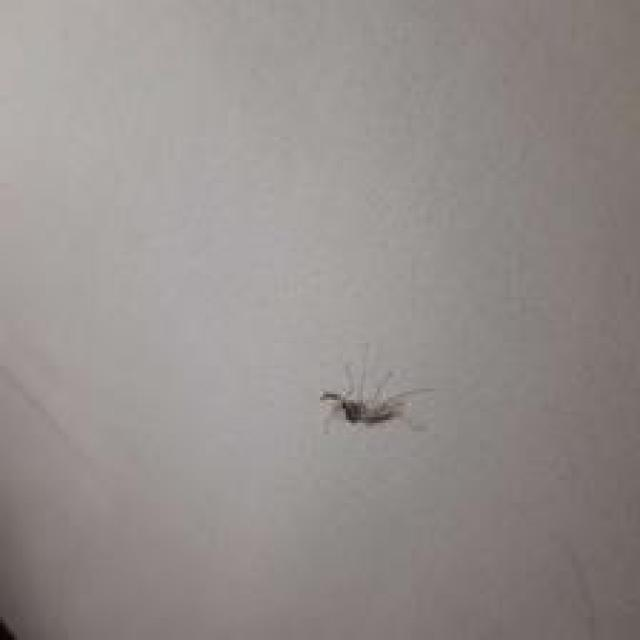Culex: (317, 354, 432, 432)
